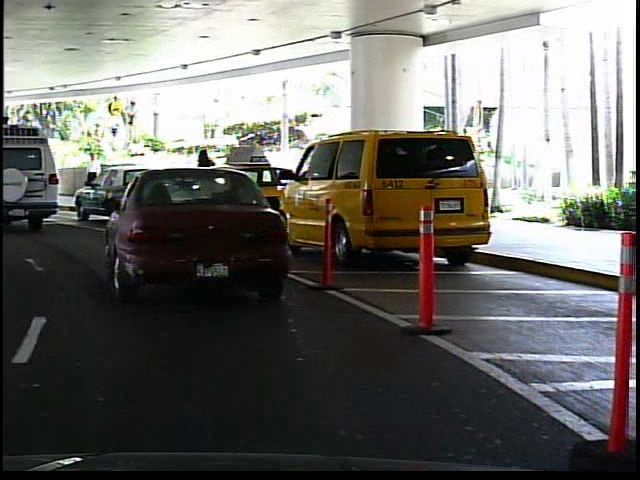person: (193, 144, 224, 208), (228, 140, 254, 207), (82, 147, 105, 201), (17, 157, 36, 196)
